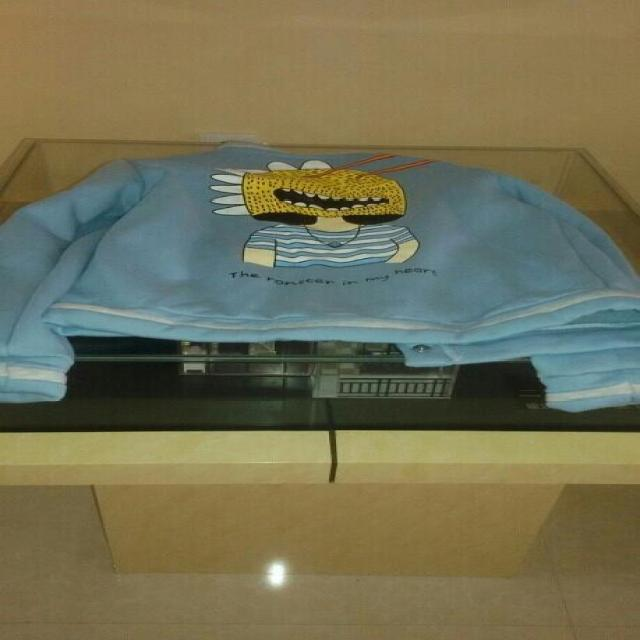long sleeve top: (0, 144, 637, 410)
